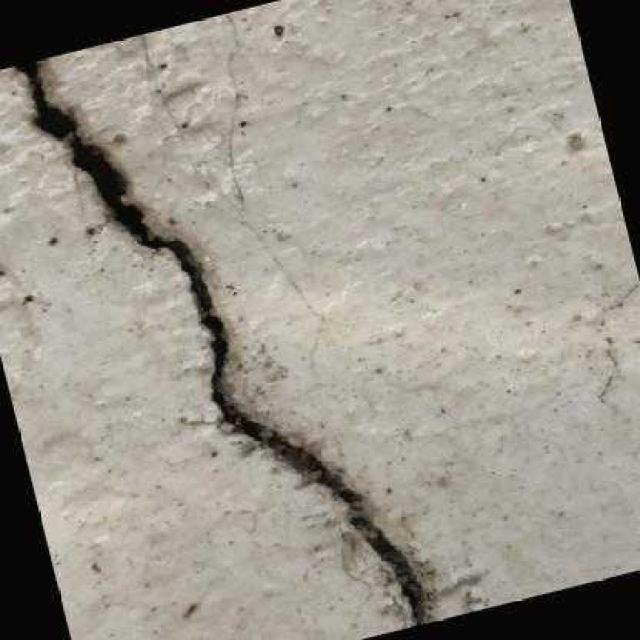D00: (11, 61, 421, 629)
